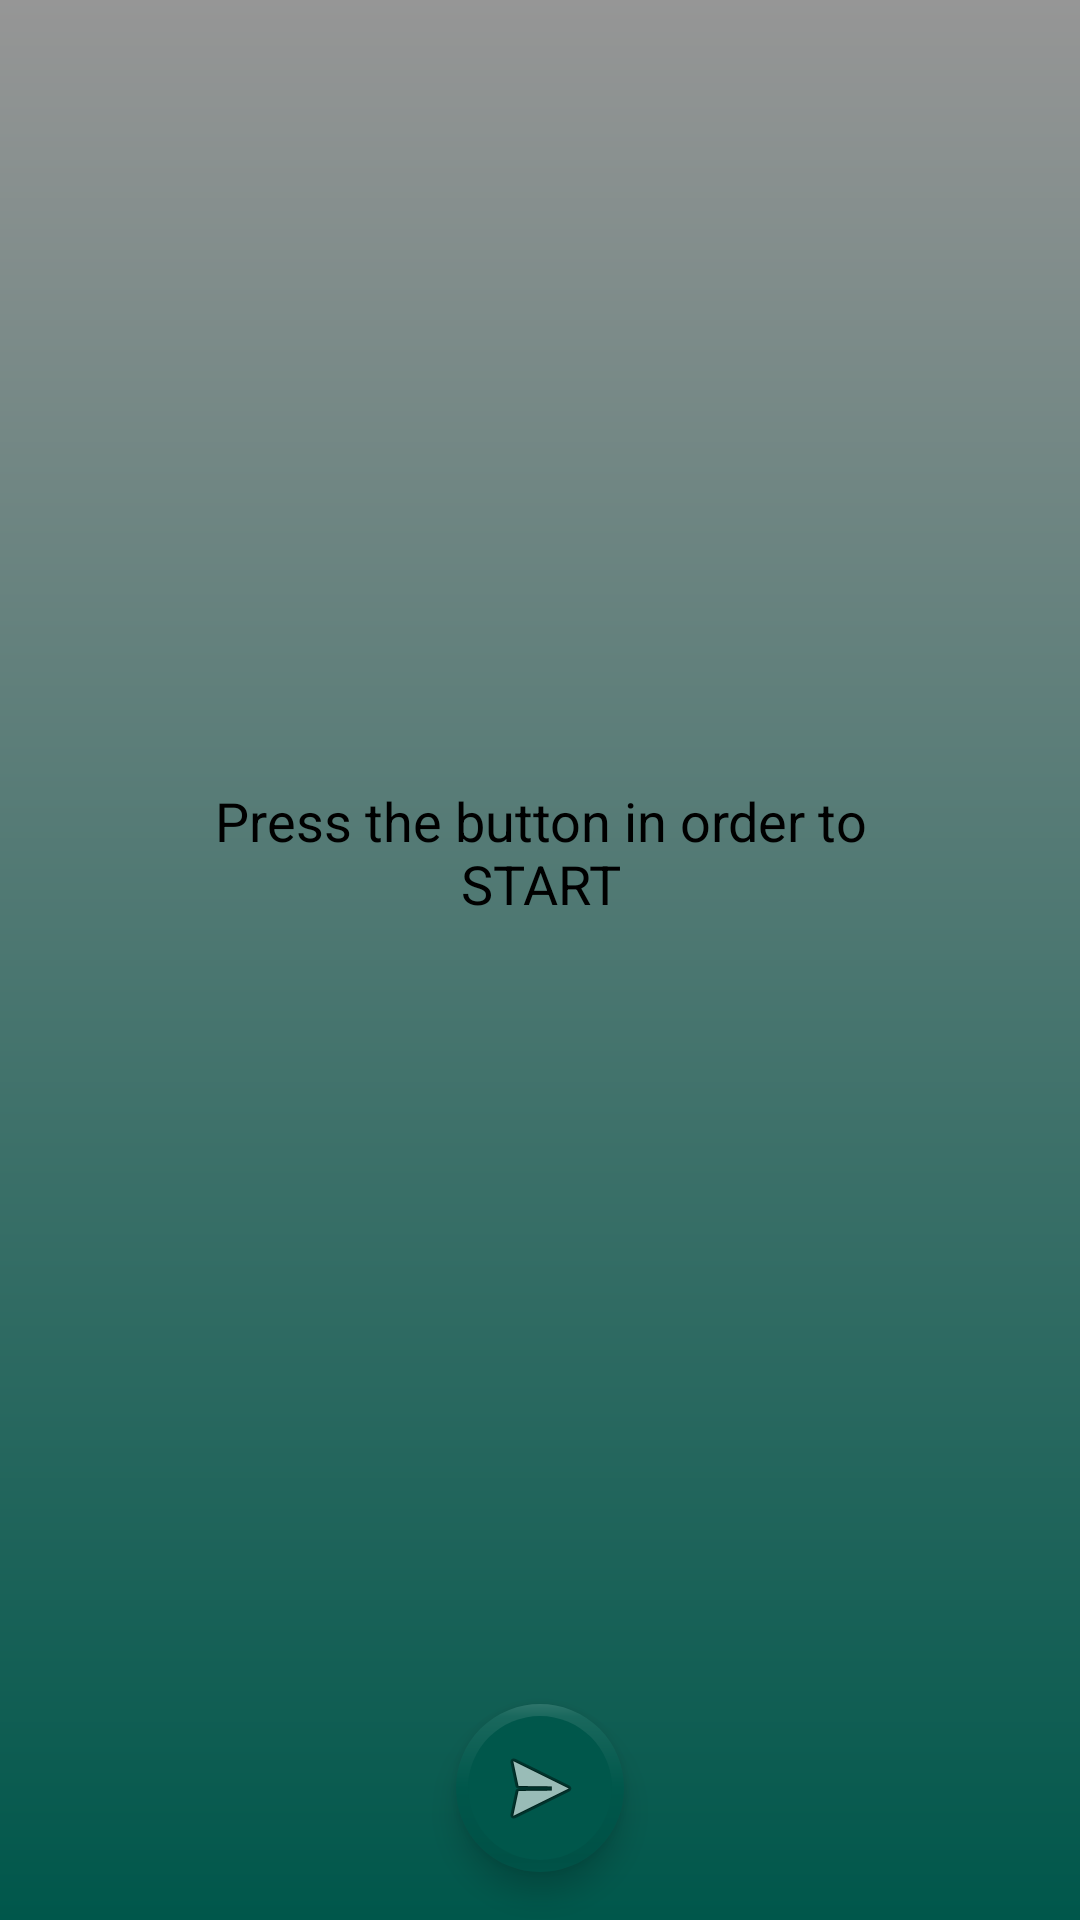

Icons on this 1080×1920 Android screen, each with its box as bbox=(x1, y1, x2, y2):
send: bbox=(502, 1704, 578, 1818)
